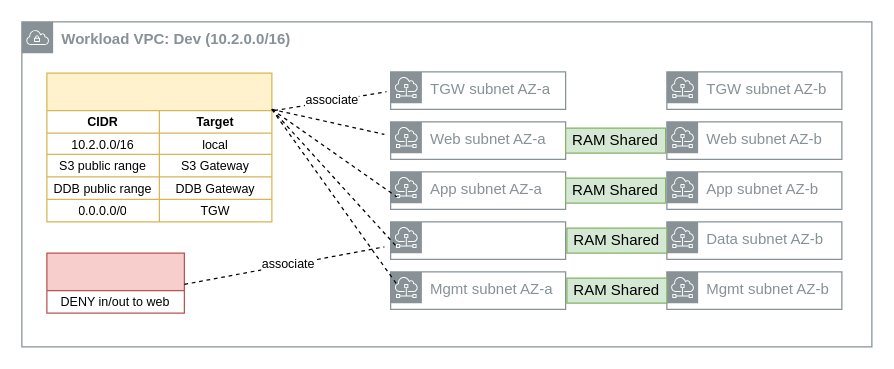
Image size: 894x369. Some labels were removed from this diagram. Each missing label, with the box of its shape:
Common VPC RT: (46, 72, 272, 222)
Data subnet AZ-a: (389, 221, 566, 259)
NACL: (46, 252, 184, 313)
